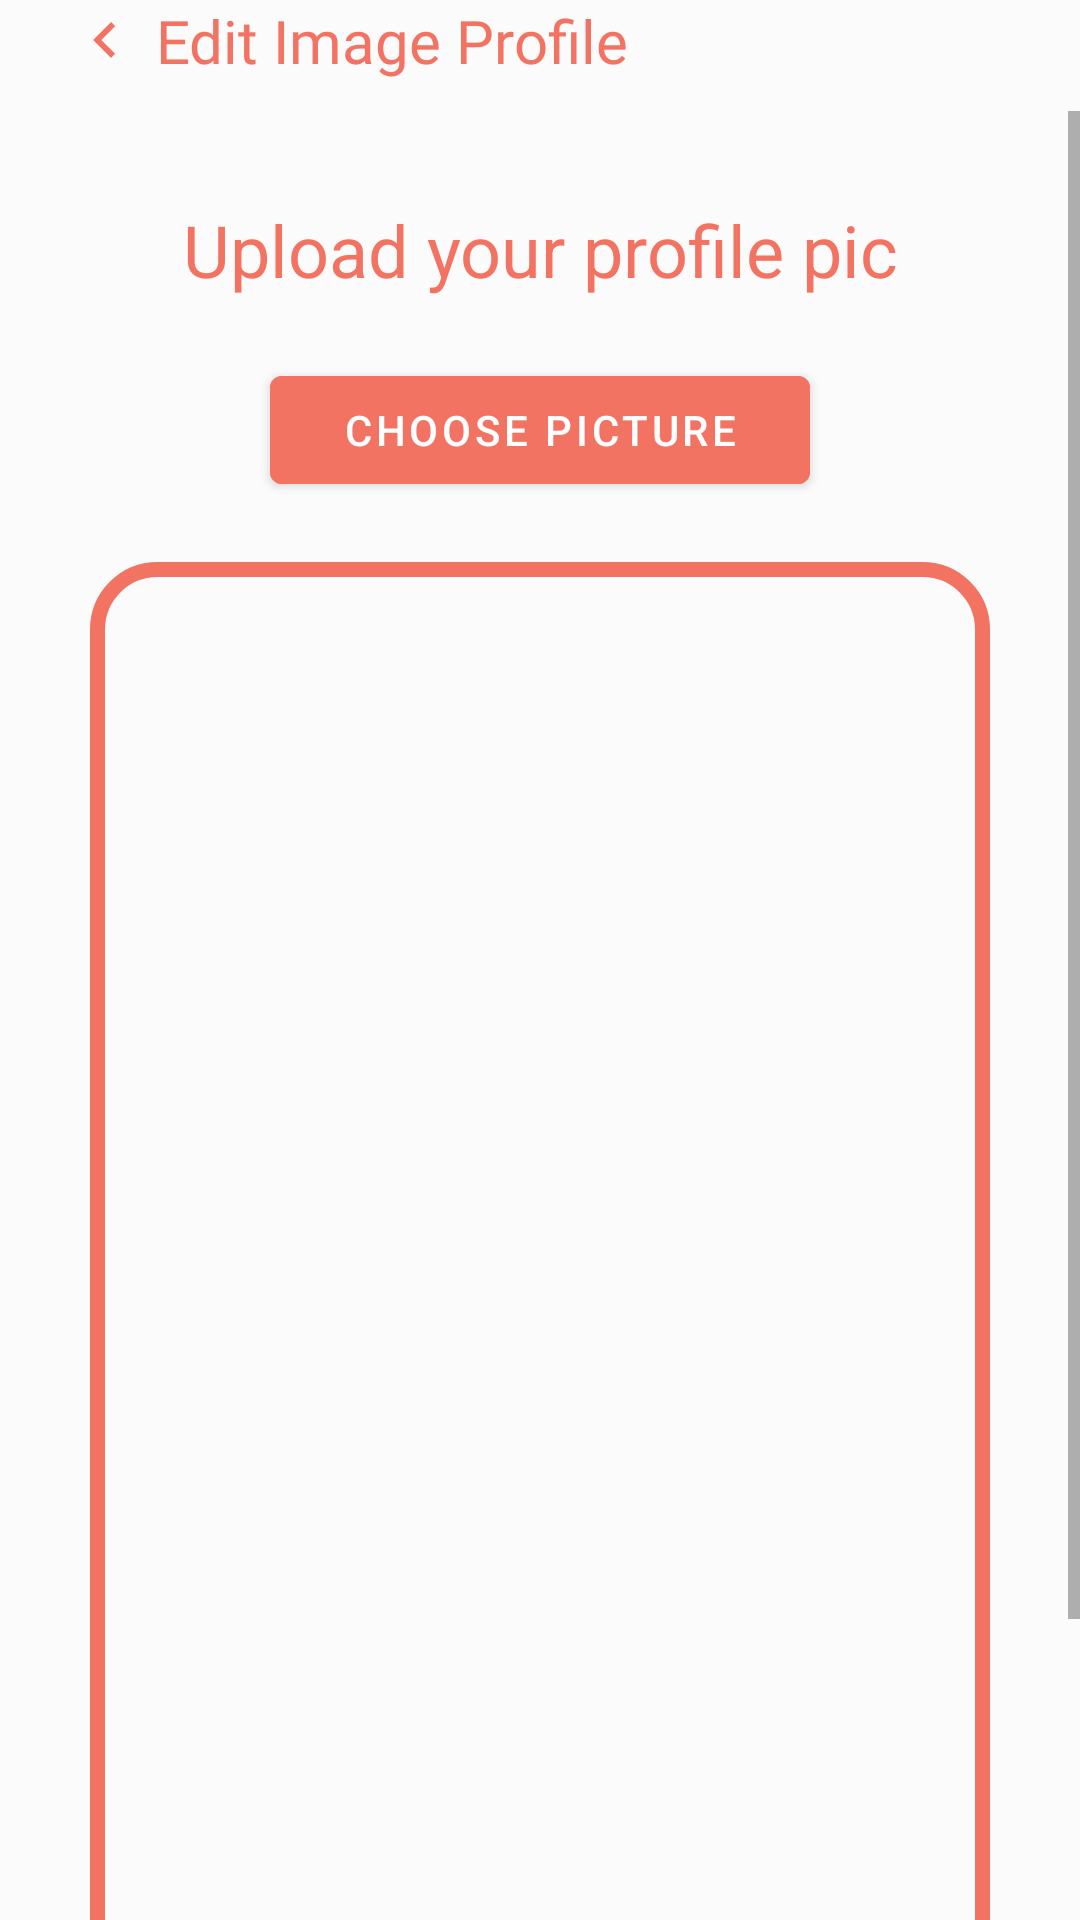

Icon click points for this 1080px×1920px phone screenshot, format (x=x, y=y):
arrow left: (x=104, y=40)
